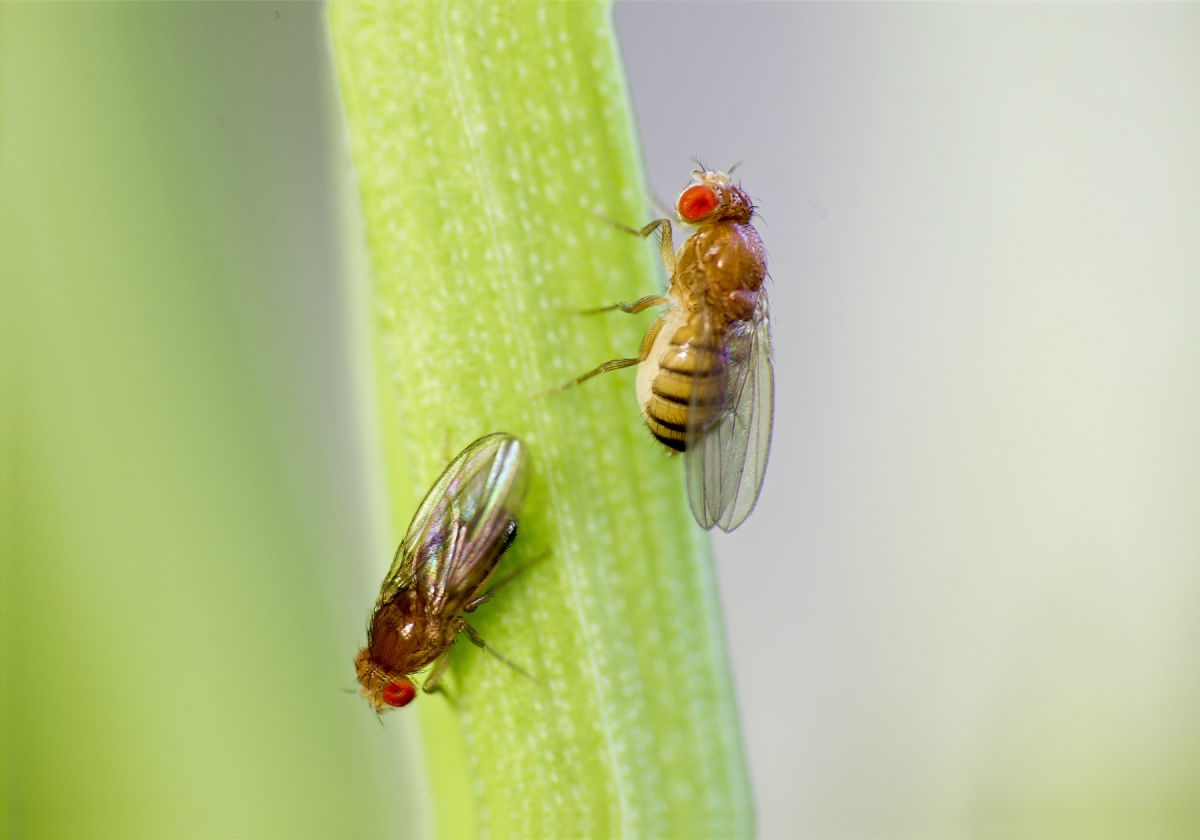Fruit fly: (288, 413, 557, 730), (604, 138, 808, 550)
